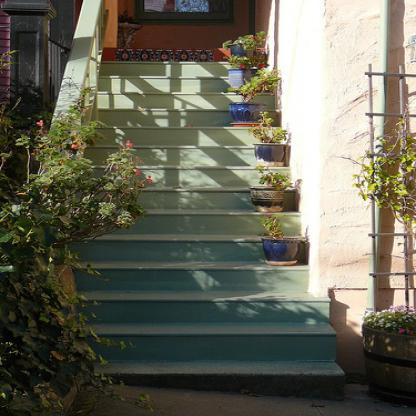stairs: (113, 278, 298, 392)
